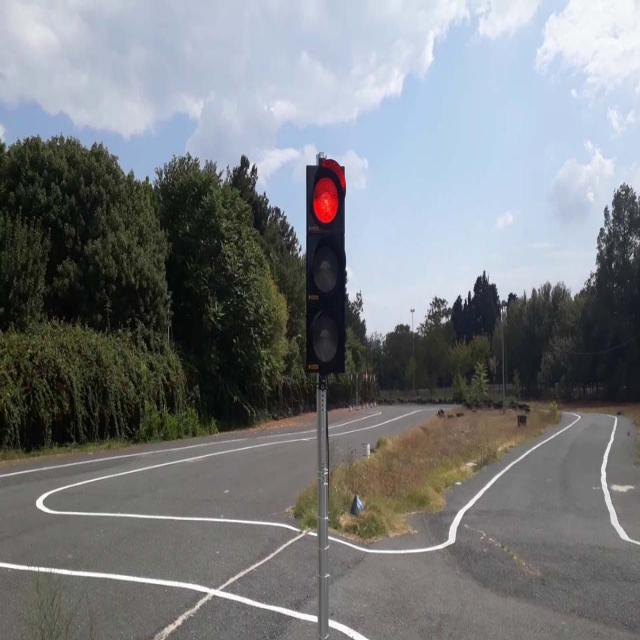kirmizi: (308, 164, 344, 372)
